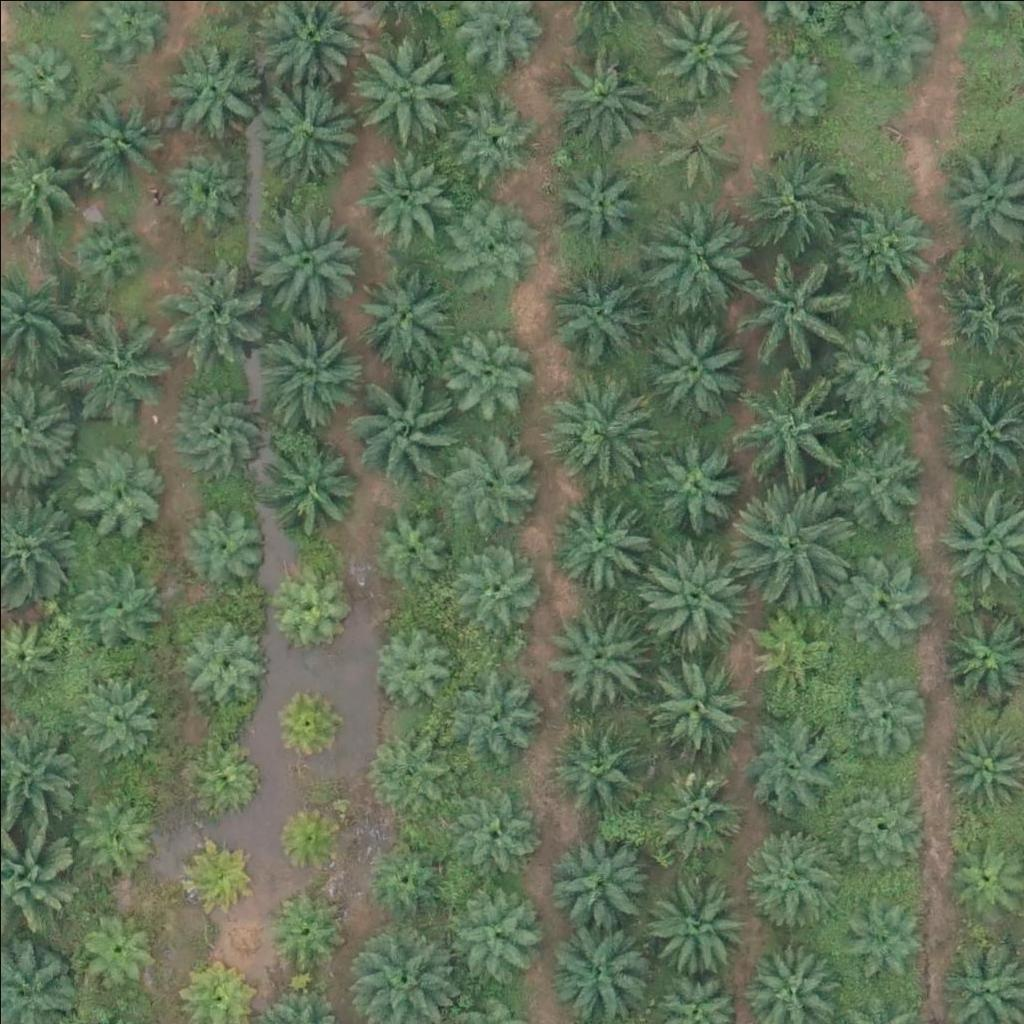Kelapa_Sawit: (255, 205, 368, 319), (258, 75, 371, 188), (546, 476, 659, 589), (545, 367, 658, 480), (635, 310, 748, 423), (736, 484, 849, 597), (253, 309, 365, 423), (351, 32, 463, 146), (159, 265, 271, 378), (355, 371, 467, 484), (635, 532, 747, 645), (638, 194, 750, 307), (735, 359, 847, 472), (735, 241, 847, 354), (740, 143, 852, 256), (74, 82, 174, 183), (74, 310, 174, 411), (164, 34, 264, 135), (261, 434, 361, 535), (358, 266, 458, 367), (437, 429, 537, 530), (548, 609, 648, 710), (554, 36, 654, 137), (641, 429, 741, 530), (824, 319, 924, 420), (837, 200, 937, 301), (552, 917, 652, 1018), (547, 834, 647, 935), (647, 661, 747, 762), (548, 717, 648, 818), (441, 665, 541, 766), (645, 869, 745, 970), (741, 832, 841, 933), (67, 445, 167, 545), (169, 377, 269, 477), (820, 427, 920, 527), (740, 715, 840, 815), (548, 261, 647, 362), (844, 670, 932, 759), (65, 206, 153, 294), (184, 615, 272, 703), (358, 146, 446, 234), (458, 543, 546, 631), (362, 835, 450, 923), (362, 717, 450, 805), (76, 907, 164, 995), (71, 784, 159, 872), (452, 879, 540, 967), (451, 787, 539, 875), (841, 886, 929, 974), (837, 782, 925, 870), (935, 719, 1023, 807), (80, 557, 167, 646), (648, 102, 735, 191), (183, 499, 270, 587), (161, 137, 248, 225), (367, 619, 454, 707), (370, 495, 457, 583), (456, 100, 543, 188), (447, 212, 534, 300), (444, 327, 531, 415), (553, 161, 640, 249), (749, 40, 836, 128), (838, 566, 925, 654), (73, 675, 160, 763), (655, 765, 742, 853), (747, 605, 834, 693), (190, 741, 265, 817), (7, 32, 82, 108), (273, 561, 348, 637), (268, 688, 343, 764), (175, 837, 250, 913), (265, 896, 340, 971), (273, 799, 348, 874)
